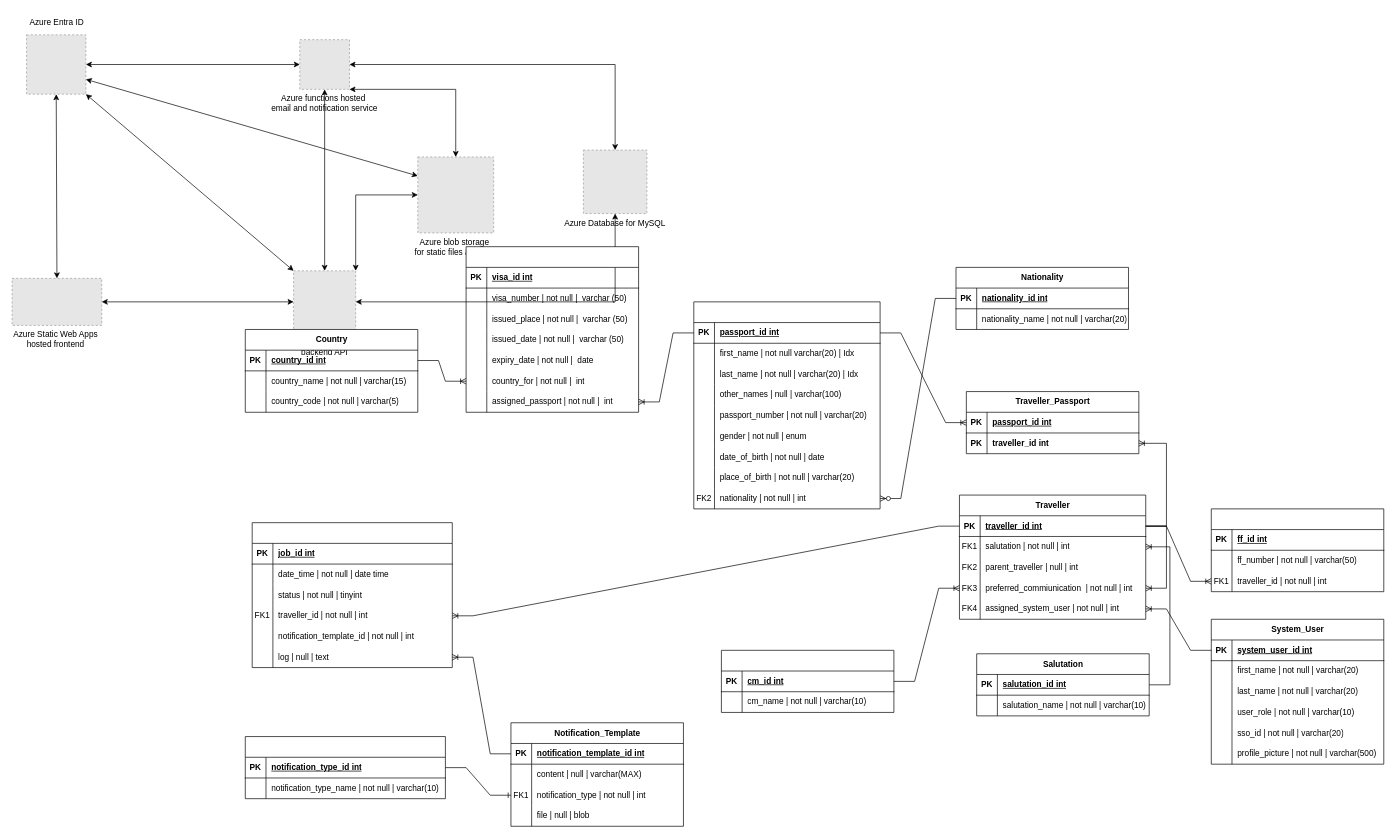
Some shapes in this 1396 by 838 pixel diagram are drawn without their labels. Grey dashed boxes stand in for pictures. Each missing label, with the box of its shape:
Commiunication_Method: (721, 650, 894, 712)
Frequent_Flight_Number: (1211, 508, 1384, 592)
Jobs: (252, 522, 452, 668)
Notification_Types: (245, 736, 445, 799)
Passport_Details: (693, 301, 880, 509)
VISA_Details: (465, 246, 639, 412)
